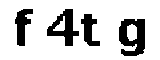4: (42, 6, 81, 49)
f: (13, 5, 37, 52)
g: (113, 15, 150, 60)
t: (79, 11, 104, 48)
